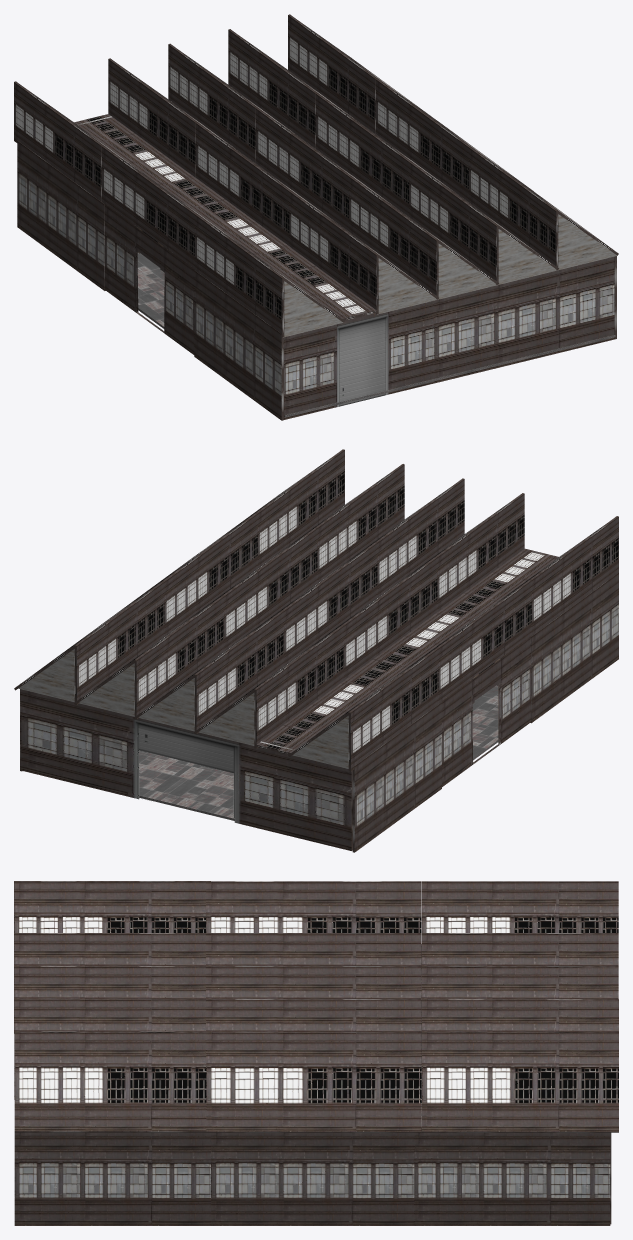
File: warehouse_main.glb
3 views of the same model, one above another, from view 1: azimuth 30°, elevation 25°; view 2: azimuth 150°, elevation 25°; view 3: azimuth 270°, elevation 25° (orthographic). The views are drawn at different scales.
Parts seen in each view (by area): view 1: Factory002_WindowsIndustrial-frontSolid-OpenWindows_Mat_0, Factory002_WindowsIndustrial-frontSolid_Mat_0, Factory002_WindowsIndustrial-frontDoorclosed_Mat_0, Factory002_11 - Default_0, Factory002_WindowsIndustrial-front_Mat_0, Object001_20 - Default_0; view 2: Factory002_WindowsIndustrial-frontSolid-OpenWindows_Mat_0, Factory002_WindowsIndustrial-frontDoorOpen_Mat_0, Factory002_WindowsIndustrial-frontSolid_Mat_0, Factory002_11 - Default_0, Factory002_WindowsIndustrial-front_Mat_0, Object001_20 - Default_0; view 3: Factory002_WindowsIndustrial-frontSolid-OpenWindows_Mat_0, Factory002_WindowsIndustrial-frontSolid_Mat_0.
Boxes of the visible parts, x1,y1,x2,y2 form: Factory002_WindowsIndustrial-frontSolid-OpenWindows_Mat_0: (14,14,618,337); Factory002_WindowsIndustrial-frontSolid_Mat_0: (17,140,616,420); Factory002_WindowsIndustrial-frontDoorclosed_Mat_0: (284,301,434,419); Factory002_11 - Default_0: (283,214,617,337); Factory002_WindowsIndustrial-front_Mat_0: (105,203,194,354); Object001_20 - Default_0: (137,253,615,417); Factory002_WindowsIndustrial-frontSolid-OpenWindows_Mat_0: (14,449,618,771); Factory002_WindowsIndustrial-frontDoorOpen_Mat_0: (20,683,352,850); Factory002_WindowsIndustrial-frontSolid_Mat_0: (20,573,618,852); Factory002_11 - Default_0: (18,649,348,768); Factory002_WindowsIndustrial-front_Mat_0: (441,635,531,786); Object001_20 - Default_0: (139,685,498,820); Factory002_WindowsIndustrial-frontSolid-OpenWindows_Mat_0: (14,881,618,1132); Factory002_WindowsIndustrial-frontSolid_Mat_0: (14,944,610,1225).
Size of the model in its own units: 15.31 by 6.2 by 21.11.
Materials: 7 (7 with a texture image).
